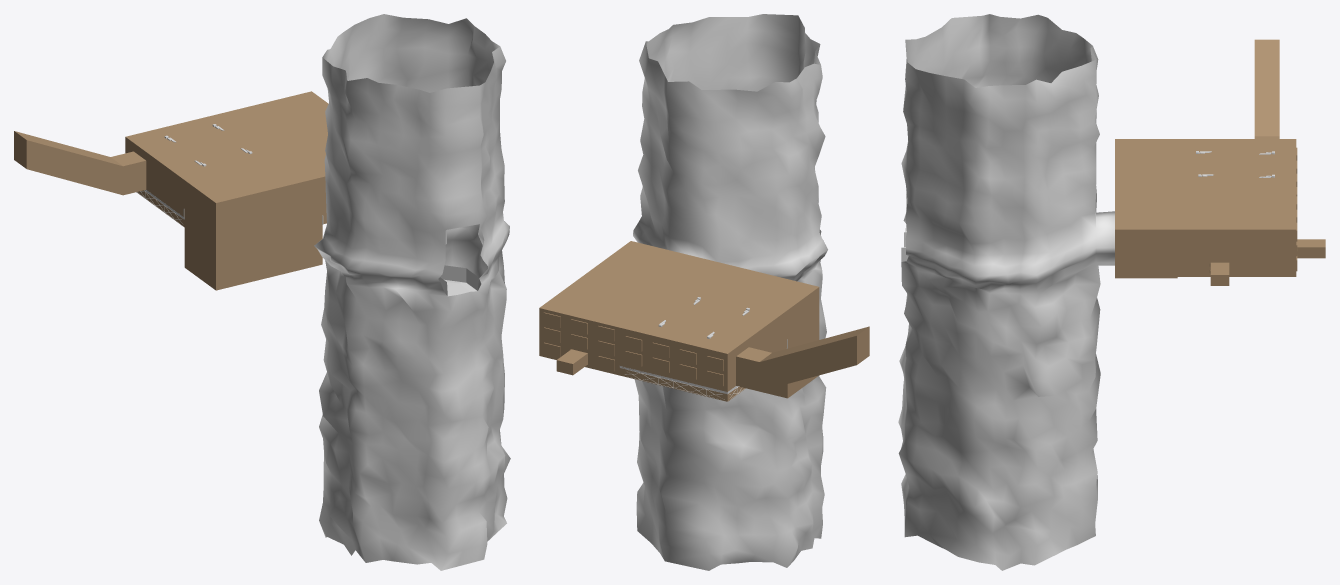
Rendered from Morgue Lair.fbx.
The picture shows the model from 3 angles, left to right: view 1: azimuth 30°, elevation 25°; view 2: azimuth 150°, elevation 25°; view 3: azimuth 270°, elevation 25°; orthographic projection.
Parts seen in each view (by area): view 1: Plane.014, Plane.015, Plane.016, Plane.018, Cube.026; view 2: Plane.014, Plane.015, Plane.016, Plane.013; view 3: Plane.014, Plane.015, Plane.006, Plane.016, Plane.013.
Boxes of the visible parts, left/top/right/bottom form: Plane.014: left=314, top=14, right=510, bottom=570; Plane.015: left=125, top=91, right=328, bottom=202; Plane.016: left=14, top=131, right=215, bottom=290; Plane.018: left=216, top=177, right=322, bottom=290; Cube.026: left=438, top=230, right=477, bottom=296; Plane.014: left=633, top=14, right=827, bottom=570; Plane.015: left=539, top=241, right=818, bottom=353; Plane.016: left=727, top=287, right=869, bottom=401; Plane.013: left=539, top=308, right=727, bottom=401; Plane.014: left=898, top=14, right=1114, bottom=570; Plane.015: left=1115, top=139, right=1296, bottom=229; Plane.006: left=1115, top=229, right=1296, bottom=285; Plane.016: left=1115, top=39, right=1279, bottom=278; Plane.013: left=1297, top=239, right=1325, bottom=258.
Bounding box in the file's own units: 3380 × 4556 × 3628.
